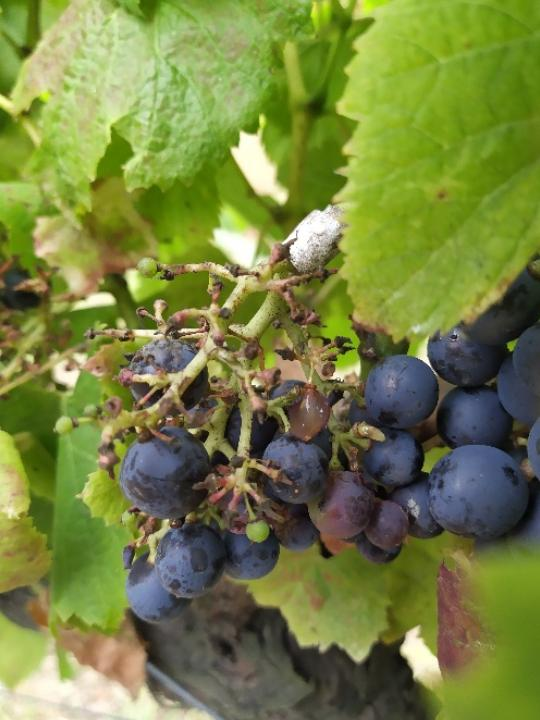grape: (52, 256, 407, 624)
